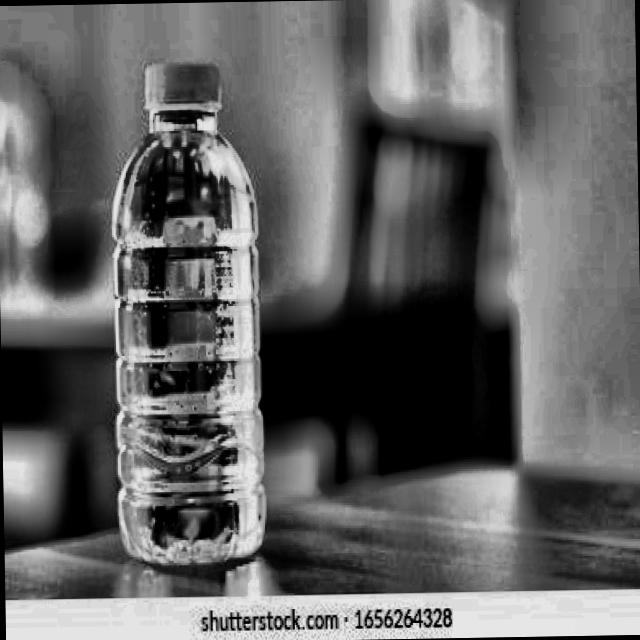waterbottle: (100, 50, 276, 579)
